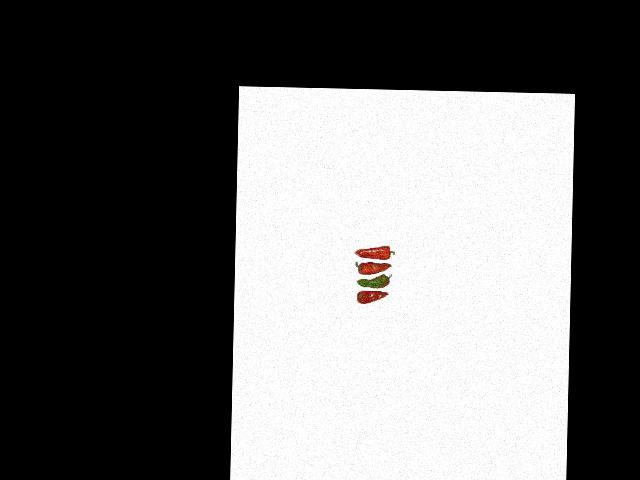bell_pepper: (355, 289, 391, 308)
